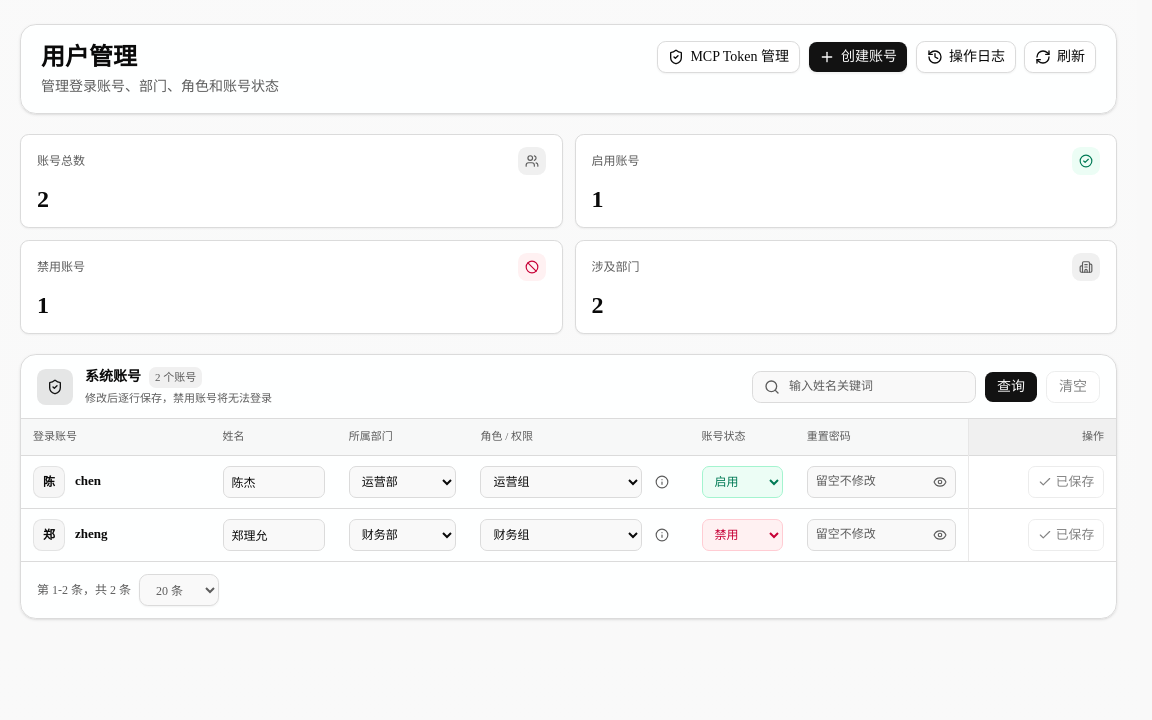
Test: highlights changed rows and undo restores only the selected account
The image size is (1152, 720).
Expected: the button "查询" is enabled, [984,370,1038,402]
Type "改" into the field named "chen的姓名" at [274, 482], box [222,466,325,498]
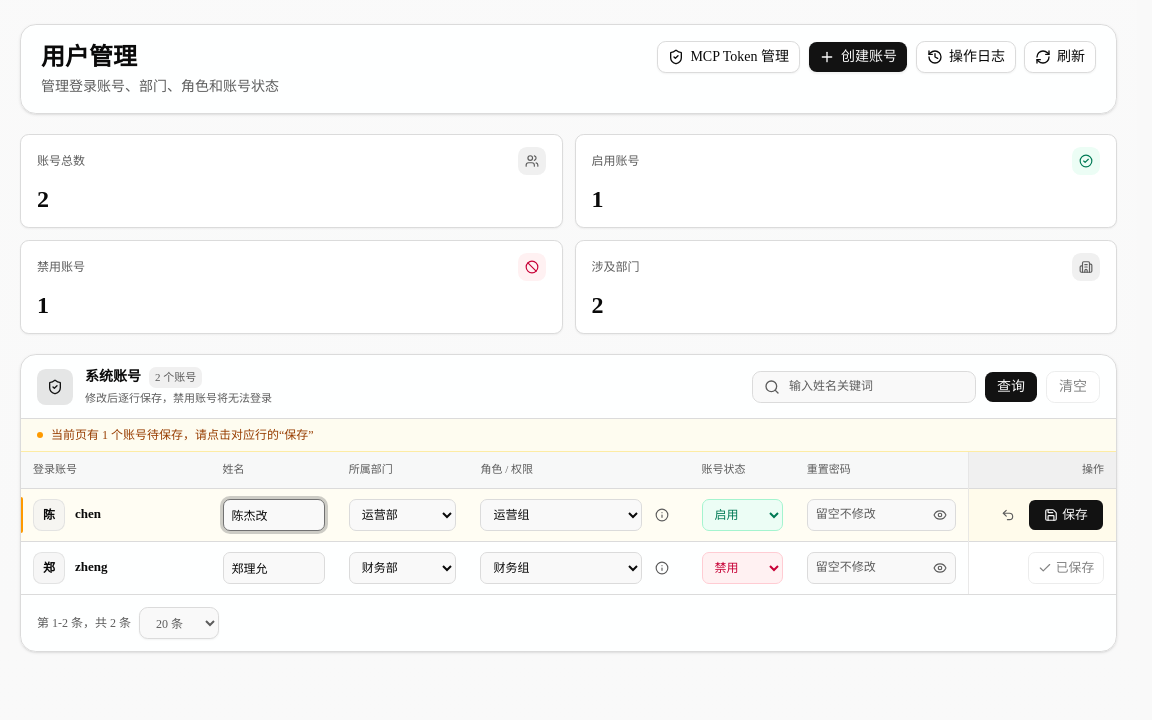
Type "改" into the field named "zheng的姓名" at [274, 568], box [222,552,325,584]
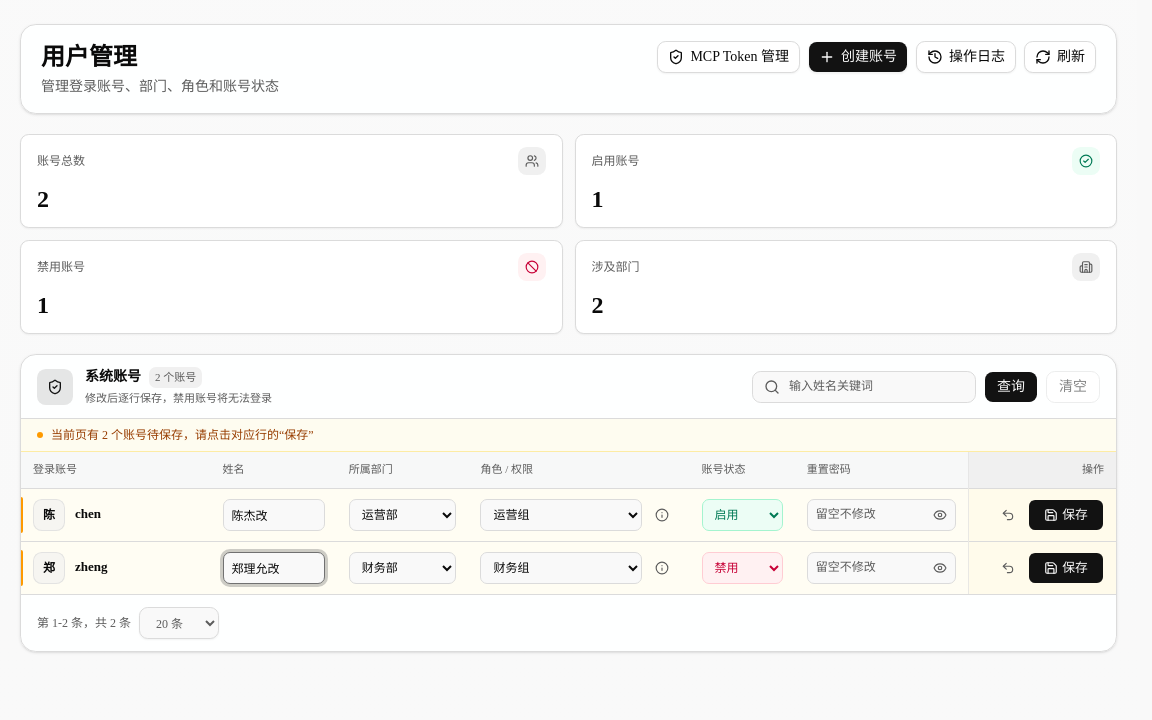
Expected: the button with aria-label "保存账号 chen" is enabled, [1028,499,1104,531]
Expected: the message shows "当前页有 2 个账号待保存", [21,419,1116,452]
Click the button named "撤销 chen 的修改" at [1008, 515], box [992,499,1024,531]
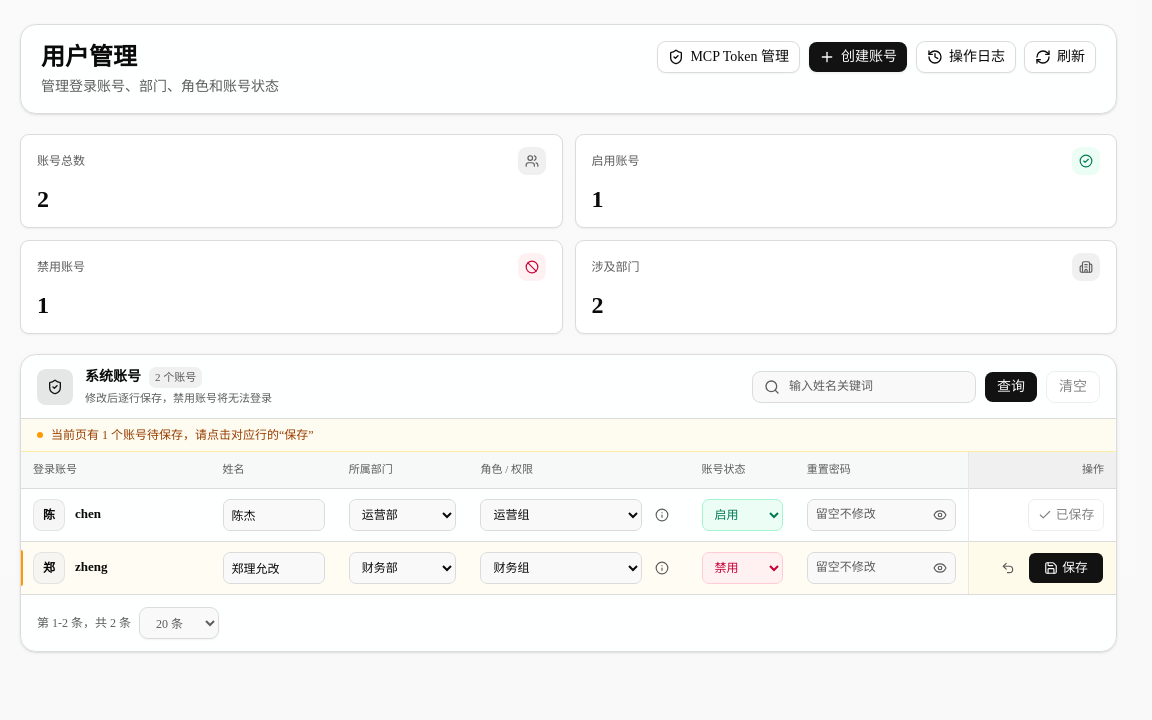
Expected: the field named "zheng的姓名" holds "郑理允改", [222,552,325,584]
Expected: the field named "chen的姓名" holds "陈杰", [222,499,325,531]
Expected: the message shows "当前页有 1 个账号待保存", [21,419,1116,452]
